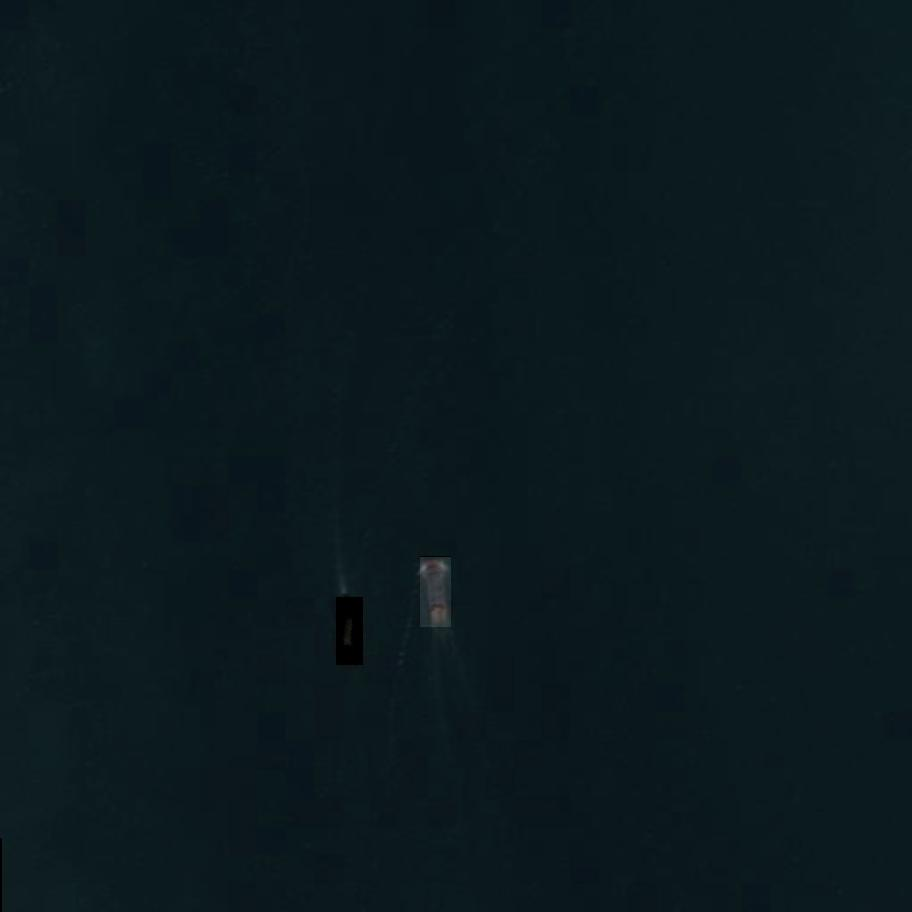ship: (420, 557, 452, 628), (336, 597, 363, 665)
